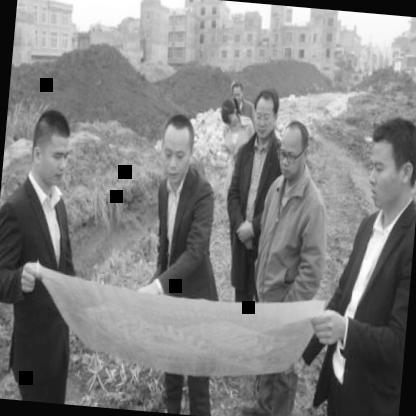head: (363, 107, 416, 215), (26, 103, 76, 192), (156, 113, 199, 188), (270, 117, 314, 181), (248, 83, 283, 141), (219, 97, 240, 132), (230, 80, 245, 106)
